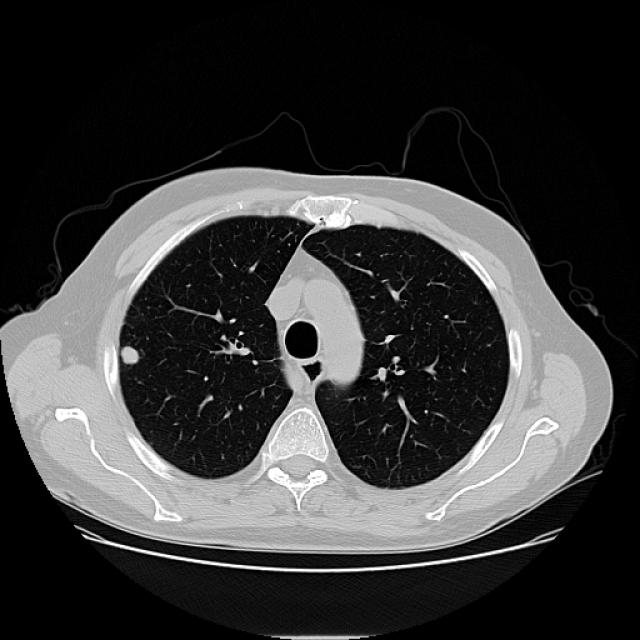nodule: (109, 334, 149, 374)
